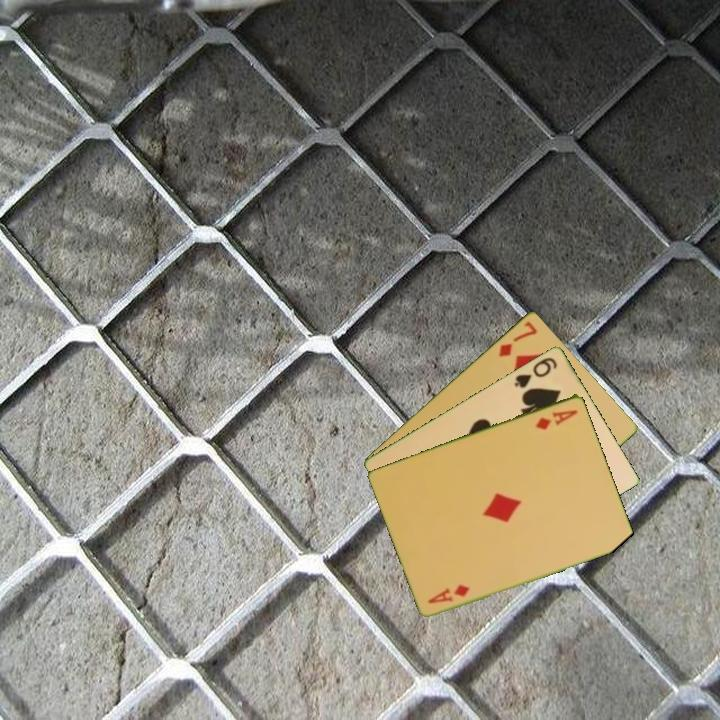6s: (511, 353, 560, 391)
7d: (495, 317, 540, 360)
Ad: (532, 406, 581, 433), (425, 580, 473, 606)
